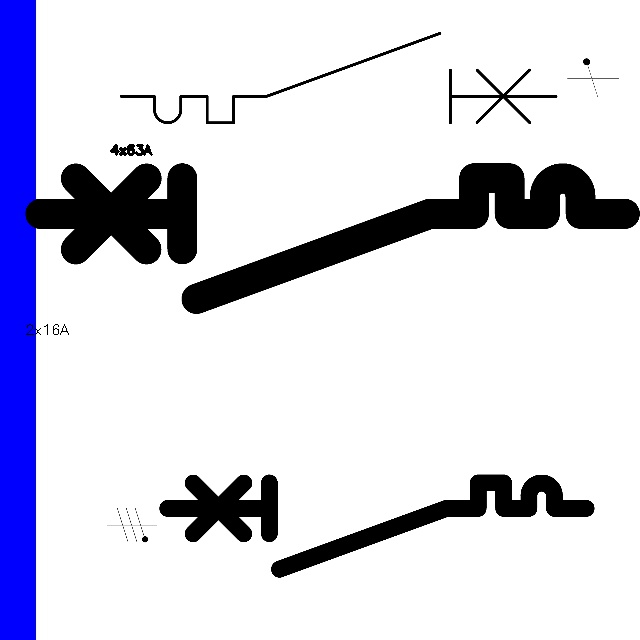interruptor_termomagnetico: (25, 163, 640, 313), (110, 22, 567, 134), (156, 472, 596, 579)
